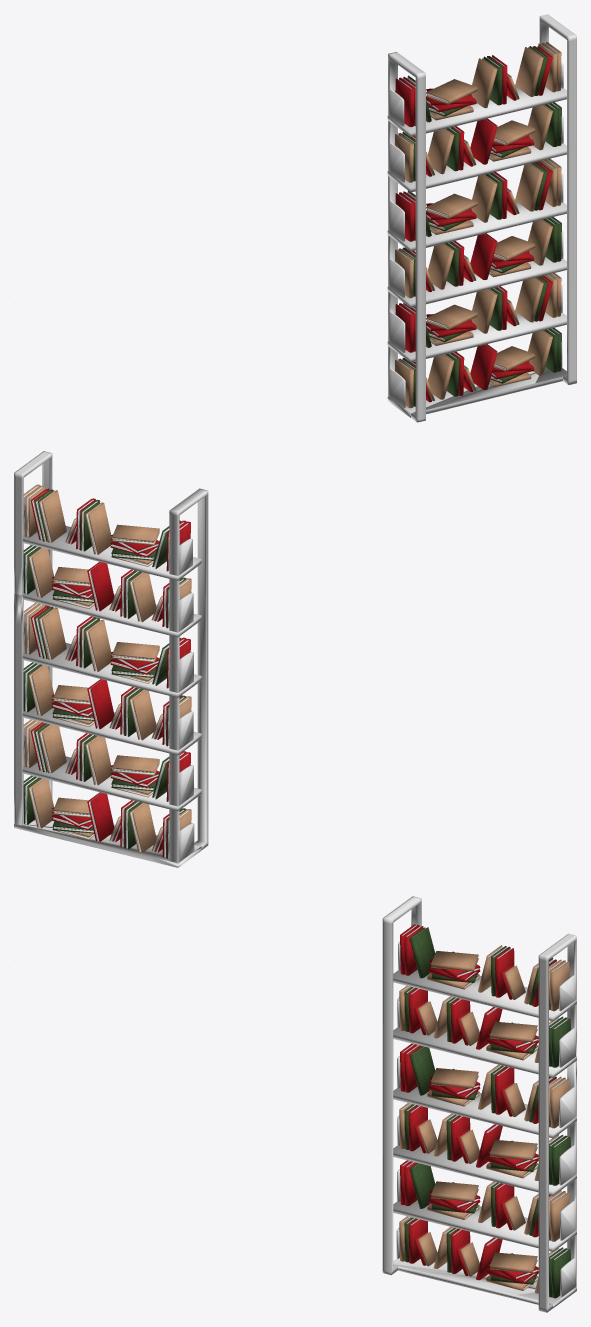
Rendered from libreriaAltaConTexturas.fbx.
3 renders of one model, top to bottom at view 1: azimuth 30°, elevation 25°; view 2: azimuth 150°, elevation 25°; view 3: azimuth 330°, elevation 25°, orthographic. The views are drawn at different scales.
Parts seen in each view (by area): view 1: LibroRojoOK, libro.032, libro.056, libro.094, libro.047, libro.123, libro.087, libro.023, libro.095, libro.064, libro.122, libro.046 (+16 smaller); view 2: LibroRojoOK, libro.032, libro.056, libro.023, libro.064, libro.095, libro.094, libro.046, libro.122, libro.047, libro.123, libro.087 (+10 smaller); view 3: LibroRojoOK, libro.017, libro.070, libro.078, libro.065, libro.109, libro.022, libro.108, libro.033, libro.073, libro.053, libro.025 (+13 smaller).
Boxes of the visible parts, x1,y1,x2,y2 form: LibroRojoOK: (387, 14, 576, 422); libro.032: (515, 47, 543, 96); libro.056: (515, 163, 543, 211); libro.094: (470, 233, 497, 279); libro.047: (470, 118, 497, 164); libro.123: (470, 344, 497, 389); libro.087: (515, 277, 543, 322); libro.023: (471, 58, 497, 108); libro.095: (428, 243, 454, 289); libro.064: (471, 174, 497, 222); libro.122: (428, 354, 454, 399); libro.046: (428, 129, 454, 174); LibroRojoOK: (14, 451, 208, 867); libro.032: (39, 490, 66, 542); libro.056: (39, 607, 66, 659); libro.023: (85, 502, 112, 554); libro.064: (85, 620, 112, 671); libro.095: (129, 689, 156, 740); libro.094: (87, 679, 114, 729); libro.046: (129, 572, 156, 622); libro.122: (129, 802, 156, 852); libro.047: (87, 562, 114, 611); libro.123: (87, 792, 114, 841); libro.087: (39, 724, 66, 773); LibroRojoOK: (382, 896, 576, 1312); libro.017: (409, 927, 435, 978); libro.070: (409, 1046, 435, 1095); libro.078: (431, 1181, 478, 1201); libro.065: (431, 1068, 478, 1088); libro.109: (490, 1252, 537, 1272); libro.022: (431, 951, 478, 971); libro.108: (490, 1139, 537, 1160); libro.033: (490, 1021, 537, 1042); libro.073: (409, 1163, 435, 1208); libro.053: (550, 960, 569, 1011); libro.025: (495, 947, 514, 997).
Size of the model in its own units: 623 by 382 by 61.15.
